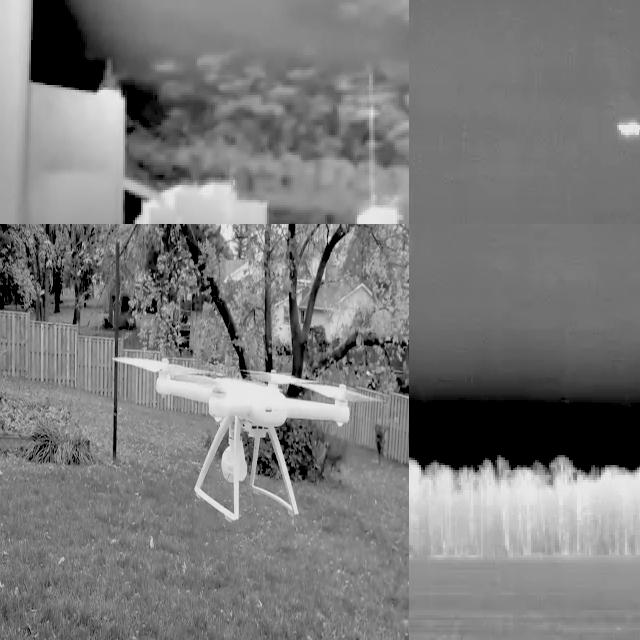1: (606, 114, 640, 147)
drone: (127, 372, 364, 517)
